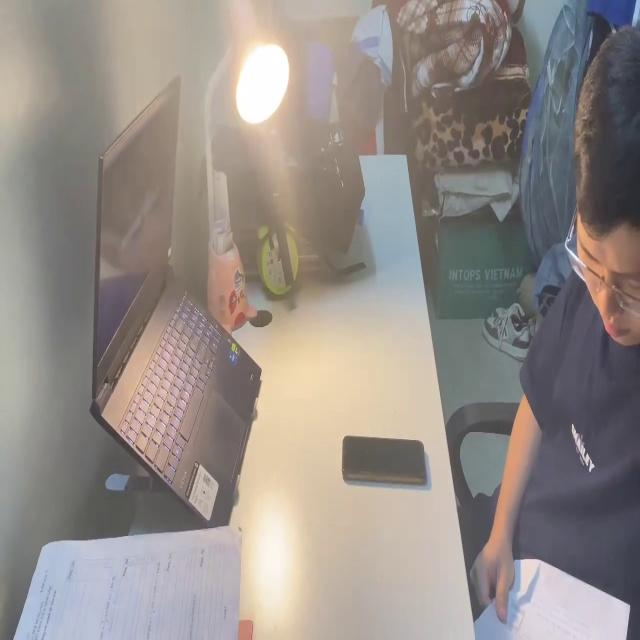book: (14, 517, 262, 640), (474, 551, 632, 640)
laptop: (86, 78, 265, 525)
phone: (340, 428, 428, 487)
student: (466, 15, 640, 640)
